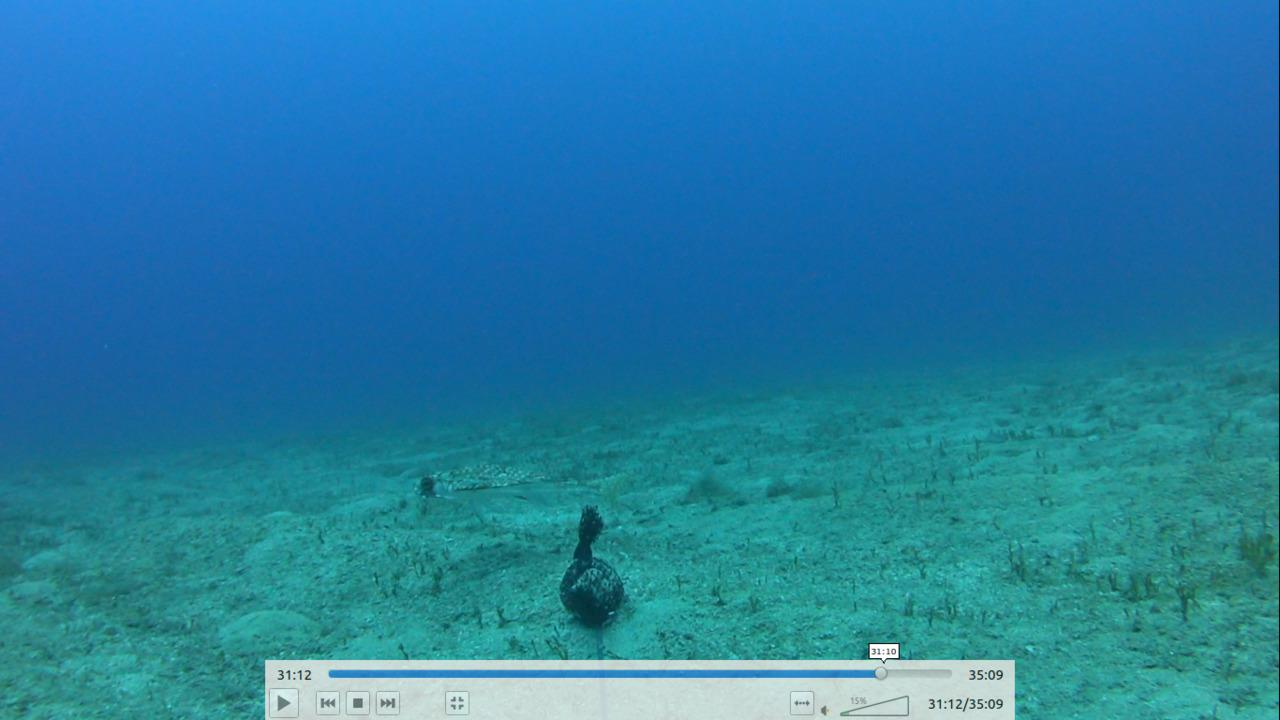dactylopterus: (409, 448, 633, 526)
